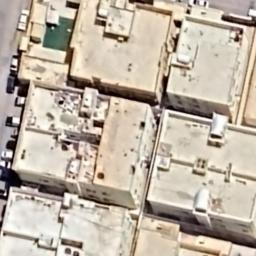sedan: (3, 73, 18, 95), (17, 8, 30, 32), (9, 52, 21, 72), (188, 0, 214, 8), (0, 159, 14, 172), (0, 150, 16, 160)
